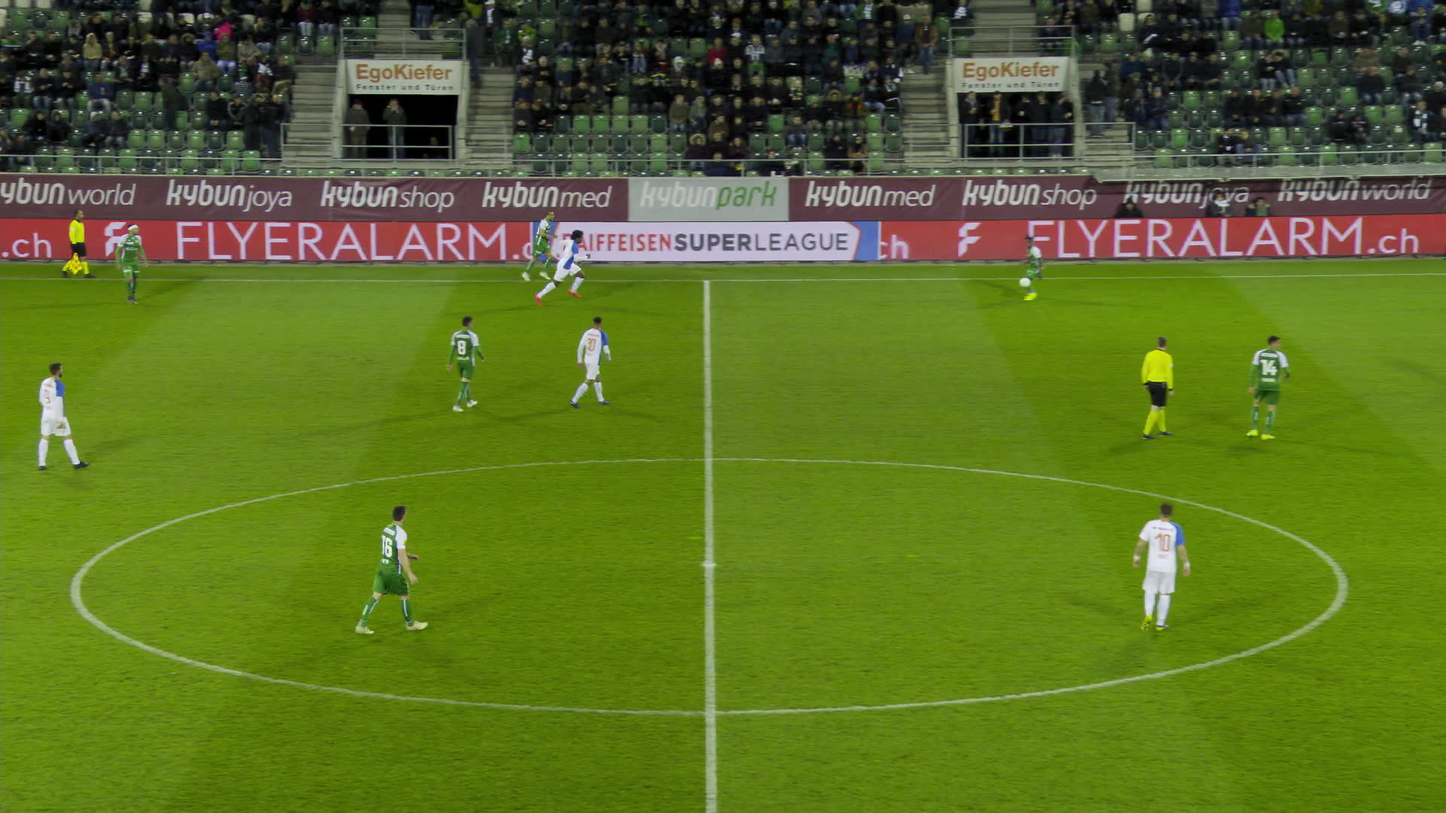ball: (1021, 279, 1033, 288)
player: (363, 503, 428, 635), (1135, 503, 1192, 635), (38, 362, 87, 470), (1248, 335, 1292, 440), (578, 315, 614, 408), (450, 315, 485, 410), (543, 232, 583, 305), (118, 224, 148, 303), (527, 213, 555, 281), (1020, 231, 1047, 300)
referee: (1142, 336, 1176, 440), (63, 209, 97, 278)
